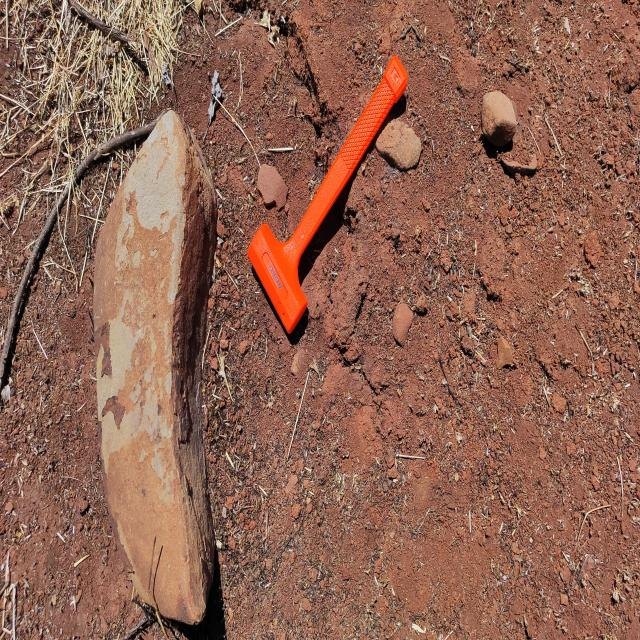Orange_hammer: (247, 54, 408, 336)
